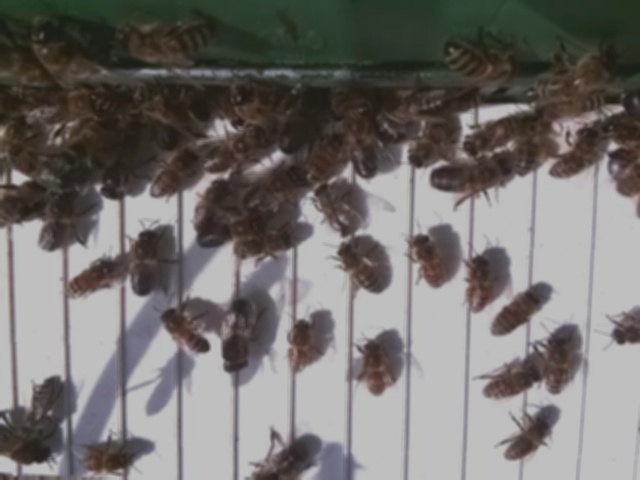Drone: (427, 157, 515, 200), (238, 164, 306, 218), (192, 210, 267, 256), (34, 185, 75, 258), (219, 296, 254, 378), (128, 228, 161, 302)
Worker: (155, 304, 214, 356), (333, 243, 389, 297), (546, 127, 599, 184), (146, 148, 198, 204), (478, 359, 541, 405), (461, 112, 524, 158), (490, 288, 542, 341), (20, 373, 59, 439), (230, 231, 300, 267), (62, 259, 118, 304), (501, 416, 552, 465), (404, 233, 446, 292), (310, 183, 354, 239), (75, 441, 140, 477), (282, 312, 315, 380), (359, 336, 390, 402), (542, 332, 572, 400), (463, 252, 494, 317)
